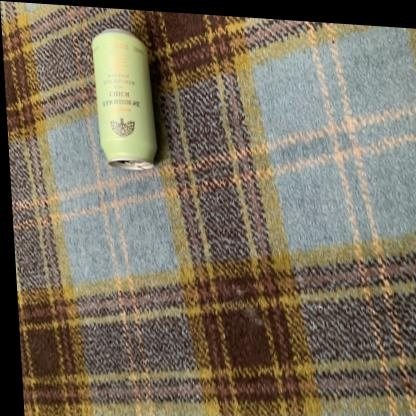trash: (92, 29, 156, 169)
